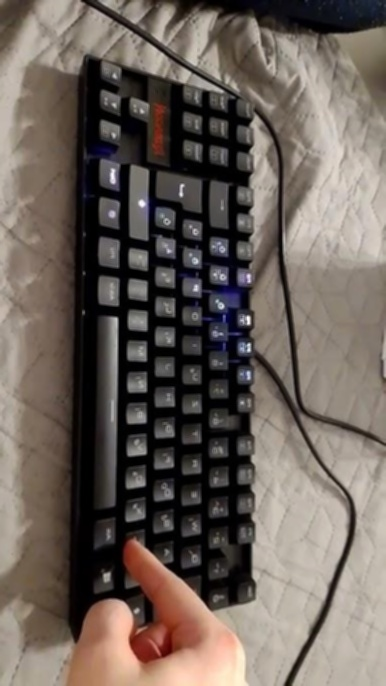0: (121, 530, 126, 551)
0-1-2-3-4-5-6-7-8-9-A-B-C-D-E-F: (75, 450, 82, 473), (77, 559, 82, 583), (76, 505, 81, 524), (107, 401, 112, 419), (92, 385, 97, 403), (93, 484, 97, 505), (108, 454, 112, 471), (93, 436, 97, 453), (123, 483, 127, 499), (123, 436, 127, 451)
8: (119, 636, 123, 652)
9: (119, 586, 124, 599)
A: (61, 500, 65, 537)
B: (124, 353, 127, 375)
CAPSLK: (61, 297, 66, 327)
D: (108, 257, 113, 283)
DEL: (62, 178, 66, 194)
E: (109, 206, 113, 233)
END: (100, 325, 104, 352)
F1: (139, 434, 142, 457)
F10: (138, 387, 142, 407)
F11: (138, 336, 142, 361)
F5: (138, 658, 142, 677)
F6: (138, 608, 142, 629)
F7: (138, 557, 142, 579)
F8: (138, 485, 142, 505)
F9: (61, 440, 65, 462)
H: (123, 217, 127, 242)
HOME: (107, 607, 112, 620)
I: (122, 265, 127, 291)
INS: (92, 642, 97, 663)
J: (92, 592, 97, 611)
KEYBOARD: (92, 534, 97, 558)
L: (62, 231, 66, 247)
LEFT: (77, 614, 82, 634)
M: (61, 373, 65, 389)
MENU: (77, 670, 82, 686)
N: (108, 553, 113, 570)
O: (108, 503, 113, 521)
P: (138, 180, 142, 210)
PAUSE: (108, 157, 113, 183)
PGDN: (123, 169, 128, 192)
PGUP: (138, 277, 142, 302)
R: (62, 126, 66, 142)
S: (138, 227, 142, 254)
SCRLK: (78, 351, 82, 371)
TAB: (107, 654, 113, 681)
U: (78, 190, 82, 204)
